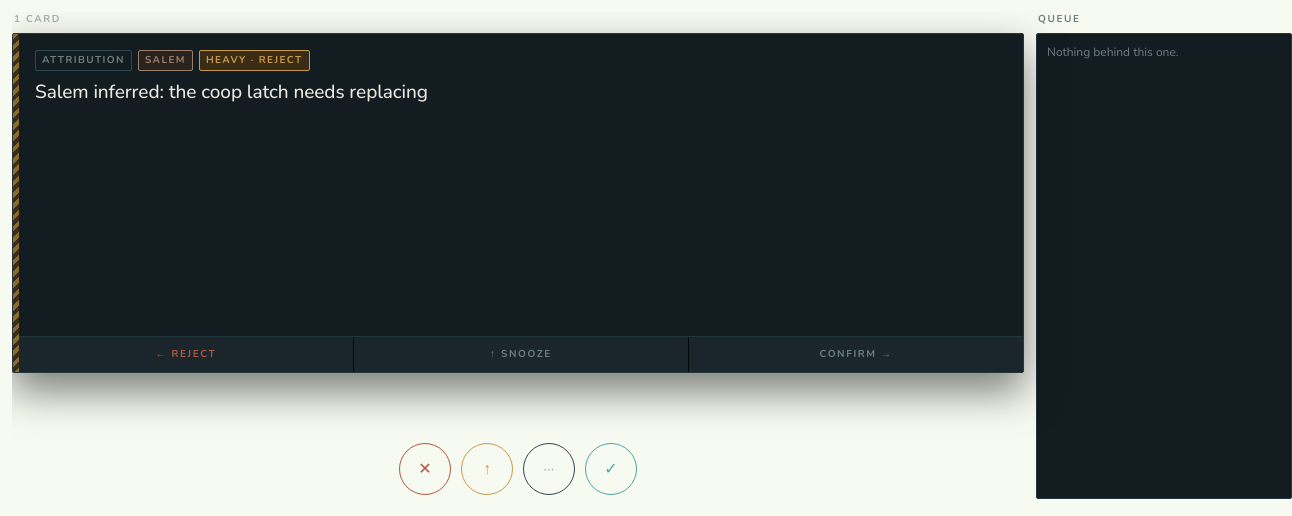
Scenario: a heavy REJECT arms instead of committing › the arm says WHAT WILL BE WRITTEN — not "write this to the vault?"
Press the mouse on the element with test id "deck-card" at (518, 203), box [12,33,1024,373]
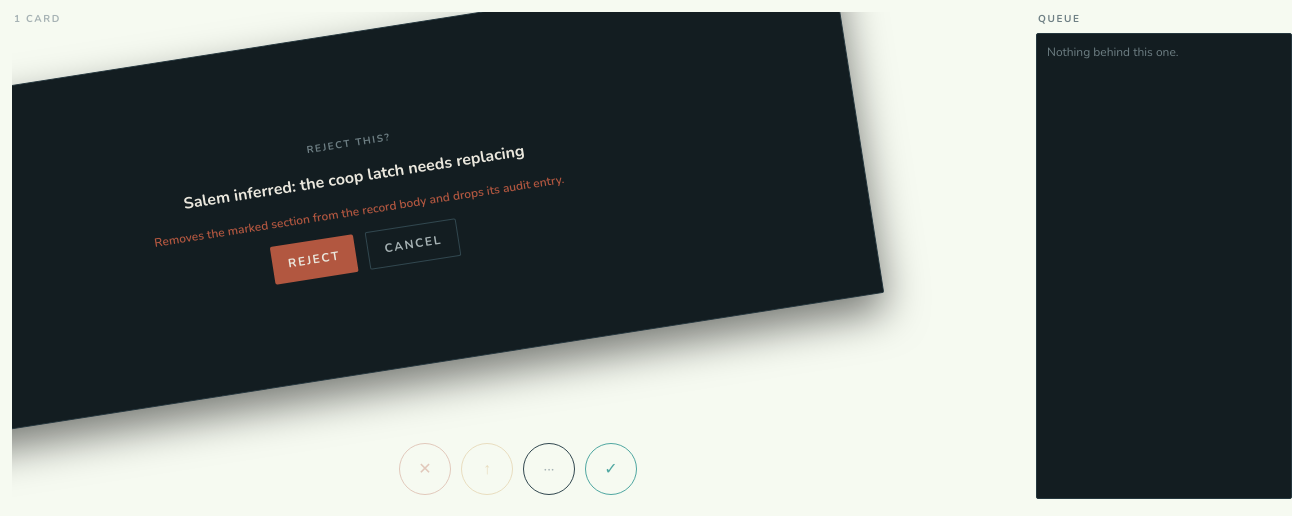
Check: the text with test id "deck-confirm-note" shows "Removes the marked section", box [153,170,565,250]
Check: the text with test id "deck-confirm-note" shows "audit entry", box [153,170,565,250]
Check: the button with test id "deck-confirm-yes" reads "Reject", box [269,234,359,284]
